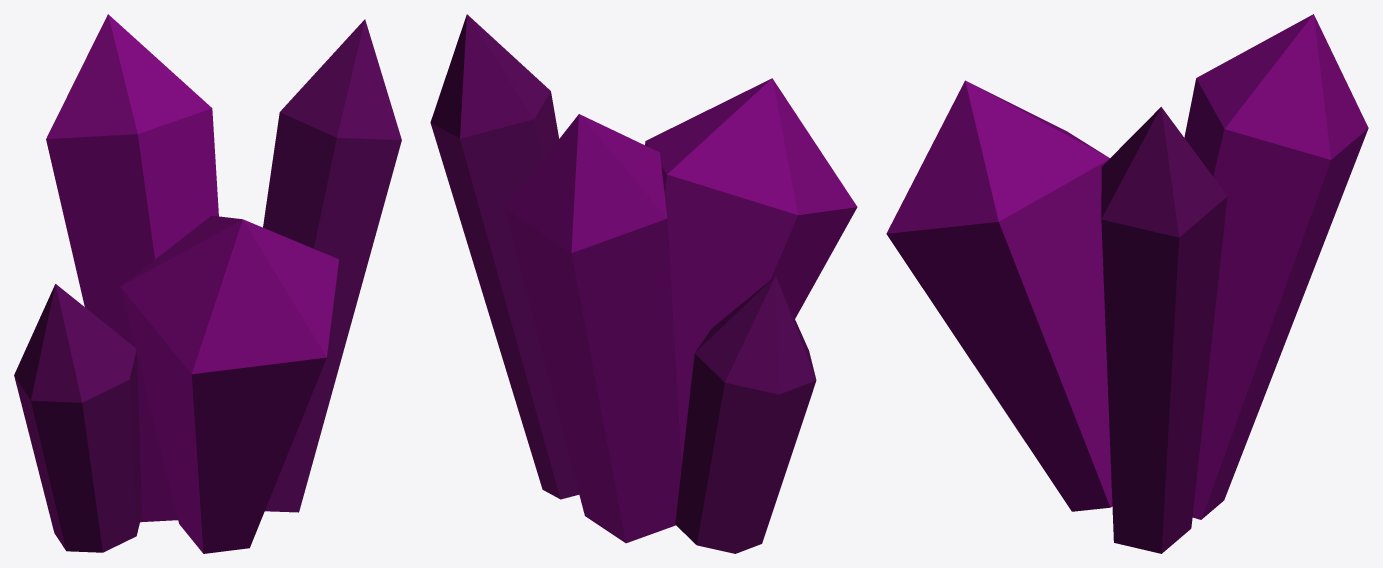
The model's file is Jem_36.fbx.
3 views of the same model, side by side, from view 1: azimuth 30°, elevation 25°; view 2: azimuth 150°, elevation 25°; view 3: azimuth 270°, elevation 25° (orthographic). The views are drawn at different scales.
Parts seen in each view (by area): view 1: Jem_36; view 2: Jem_36; view 3: Jem_36.
Part boxes in pixels (x1,y1,x2,y2): Jem_36: [14, 14, 401, 553]; Jem_36: [430, 14, 857, 553]; Jem_36: [886, 14, 1368, 553].
Bounding box in the file's own units: 65.02 × 77.8 × 69.14.
